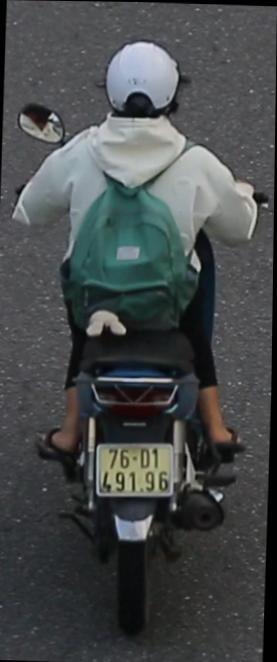LP: (94, 439, 179, 505)
helmet: (102, 34, 187, 130)
